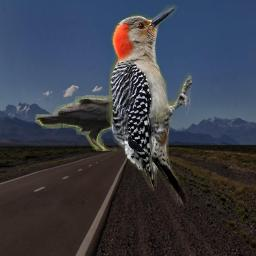Crow: (35, 87, 149, 151), (127, 135, 147, 155)
Woodpecker: (102, 2, 192, 218)
